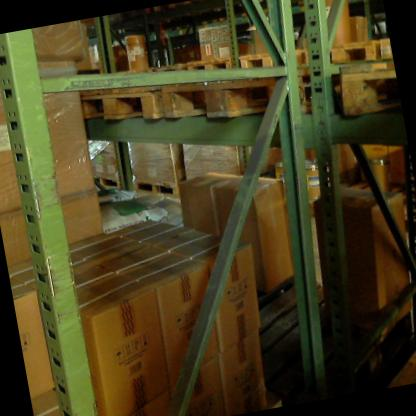pallet: (233, 252, 371, 403), (149, 52, 338, 146), (73, 71, 165, 141), (332, 49, 400, 122), (326, 29, 396, 86), (237, 36, 316, 78), (365, 332, 416, 388), (183, 48, 243, 83), (132, 167, 183, 203), (143, 52, 188, 86), (93, 154, 129, 196)
